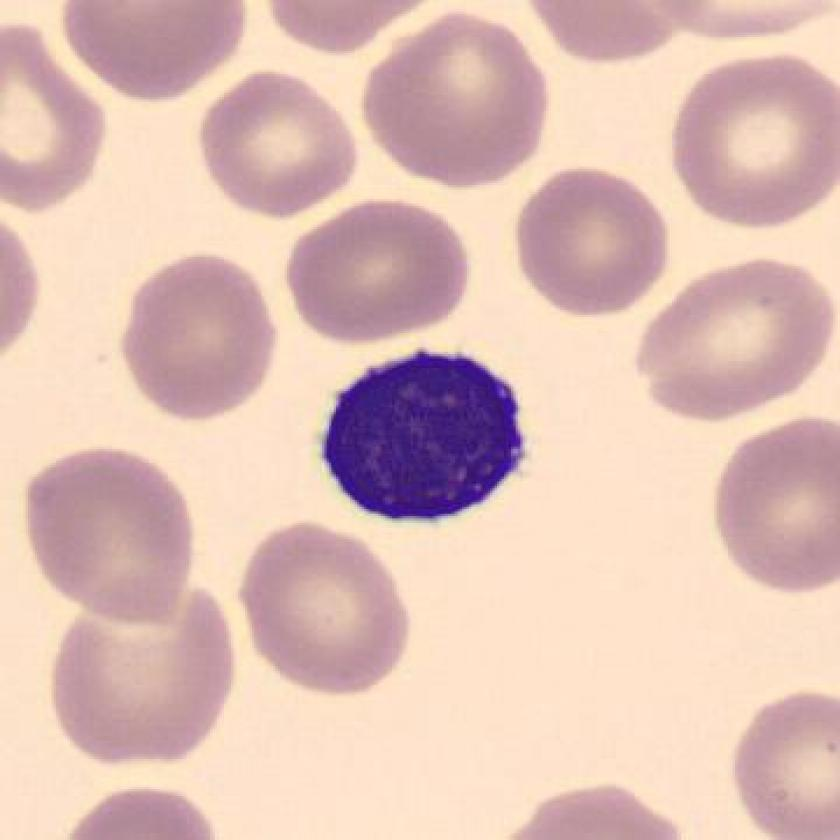lymphocyte: (307, 330, 540, 552)
